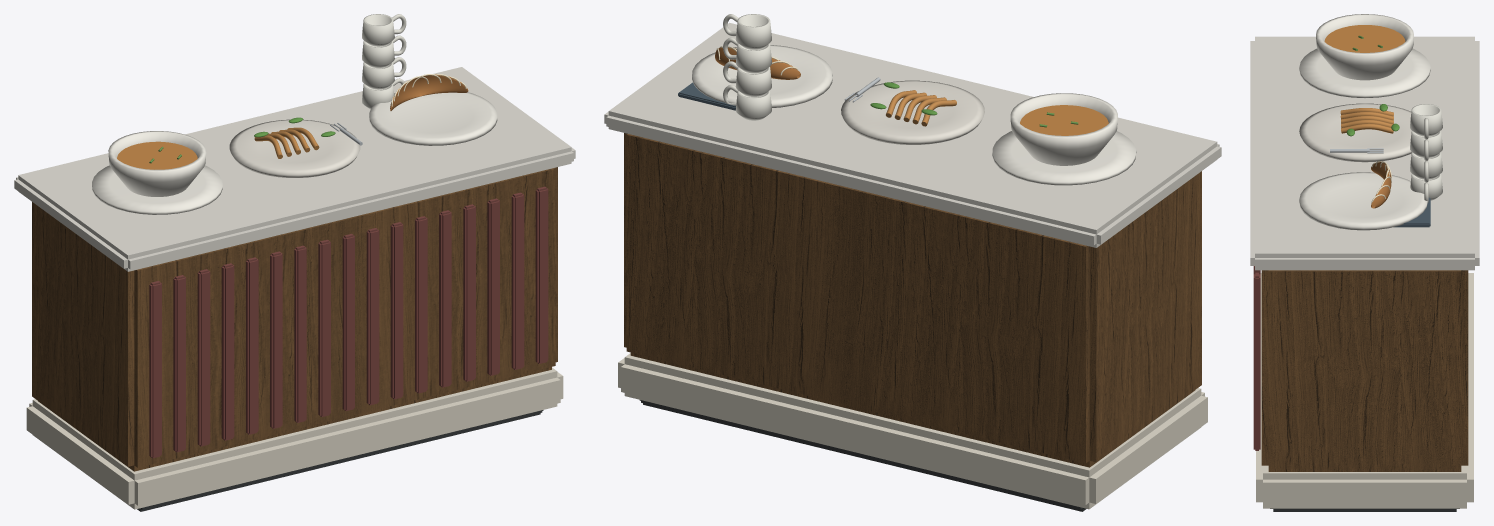
File: collection_v29_restaurant_1.glb
The picture shows the model from 3 angles, left to right: view 1: azimuth 30°, elevation 25°; view 2: azimuth 150°, elevation 25°; view 3: azimuth 270°, elevation 25°; orthographic projection. The views are drawn at different scales.
Visible parts, largest first — view 1: collection_v29_restaurant_1_CC0_Oak_veneer, collection_v29_restaurant_1_V29_oxblood_lacquer, collection_v29_restaurant_1_Honed_solid_surface, collection_v29_restaurant_1_V29_ivory_lacquer, collection_v29_restaurant_1_V24_service_porcelain.002, collection_v29_restaurant_1_V24_service_porcelain.003, collection_v29_restaurant_1_FY21_chalk_lacquer.007, collection_v29_restaurant_1_Anodised_graphite, collection_v29_restaurant_1_V24_roasted_soup.001, collection_v29_restaurant_1_V24_golden_crust.005, collection_v29_restaurant_1_Glazed_ceramic_0.022, collection_v29_restaurant_1_Laminated_pastry.014 (+2 smaller); view 2: collection_v29_restaurant_1_CC0_Oak_veneer, collection_v29_restaurant_1_Honed_solid_surface, collection_v29_restaurant_1_V29_ivory_lacquer, collection_v29_restaurant_1_V24_service_porcelain.002, collection_v29_restaurant_1_FY21_chalk_lacquer.007, collection_v29_restaurant_1_V24_service_porcelain.003, collection_v29_restaurant_1_Anodised_graphite, collection_v29_restaurant_1_V24_roasted_soup.001, collection_v29_restaurant_1_Glazed_ceramic_0.022, collection_v29_restaurant_1_Laminated_pastry.014, collection_v29_restaurant_1_Glazed_ceramic_0.021, collection_v29_restaurant_1_Glazed_ceramic_0.020 (+2 smaller); view 3: collection_v29_restaurant_1_CC0_Oak_veneer, collection_v29_restaurant_1_Honed_solid_surface, collection_v29_restaurant_1_V29_ivory_lacquer, collection_v29_restaurant_1_V24_service_porcelain.002, collection_v29_restaurant_1_V24_service_porcelain.003, collection_v29_restaurant_1_FY21_chalk_lacquer.007, collection_v29_restaurant_1_V24_roasted_soup.001, collection_v29_restaurant_1_V29_oxblood_lacquer, collection_v29_restaurant_1_Laminated_pastry.014, collection_v29_restaurant_1_Glazed_ceramic_0.022, collection_v29_restaurant_1_Anodised_graphite, collection_v29_restaurant_1_Glazed_ceramic_0.021 (+4 smaller).
Boxes of the visible parts, x1=… form: collection_v29_restaurant_1_CC0_Oak_veneer: x1=32, y1=167, x2=557, y2=471; collection_v29_restaurant_1_V29_oxblood_lacquer: x1=149, y1=186, x2=548, y2=458; collection_v29_restaurant_1_Honed_solid_surface: x1=14, y1=67, x2=575, y2=271; collection_v29_restaurant_1_V29_ivory_lacquer: x1=26, y1=367, x2=563, y2=509; collection_v29_restaurant_1_V24_service_porcelain.002: x1=92, y1=131, x2=222, y2=214; collection_v29_restaurant_1_V24_service_porcelain.003: x1=369, y1=92, x2=497, y2=145; collection_v29_restaurant_1_FY21_chalk_lacquer.007: x1=229, y1=119, x2=360, y2=177; collection_v29_restaurant_1_Anodised_graphite: x1=137, y1=410, x2=543, y2=511; collection_v29_restaurant_1_V24_roasted_soup.001: x1=117, y1=141, x2=197, y2=169; collection_v29_restaurant_1_V24_golden_crust.005: x1=390, y1=74, x2=468, y2=110; collection_v29_restaurant_1_Glazed_ceramic_0.022: x1=362, y1=14, x2=406, y2=46; collection_v29_restaurant_1_Laminated_pastry.014: x1=254, y1=127, x2=319, y2=158; collection_v29_restaurant_1_CC0_Oak_veneer: x1=624, y1=133, x2=1201, y2=467; collection_v29_restaurant_1_Honed_solid_surface: x1=604, y1=22, x2=1221, y2=247; collection_v29_restaurant_1_V29_ivory_lacquer: x1=618, y1=353, x2=1207, y2=509; collection_v29_restaurant_1_V24_service_porcelain.002: x1=992, y1=93, x2=1136, y2=185; collection_v29_restaurant_1_FY21_chalk_lacquer.007: x1=841, y1=80, x2=984, y2=144; collection_v29_restaurant_1_V24_service_porcelain.003: x1=692, y1=45, x2=832, y2=107; collection_v29_restaurant_1_Anodised_graphite: x1=639, y1=400, x2=1086, y2=511; collection_v29_restaurant_1_V24_roasted_soup.001: x1=1020, y1=105, x2=1108, y2=135; collection_v29_restaurant_1_Glazed_ceramic_0.022: x1=723, y1=14, x2=771, y2=49; collection_v29_restaurant_1_Laminated_pastry.014: x1=886, y1=90, x2=956, y2=126; collection_v29_restaurant_1_Glazed_ceramic_0.021: x1=723, y1=37, x2=771, y2=73; collection_v29_restaurant_1_Glazed_ceramic_0.020: x1=723, y1=61, x2=771, y2=96; collection_v29_restaurant_1_CC0_Oak_veneer: x1=1261, y1=270, x2=1468, y2=471; collection_v29_restaurant_1_Honed_solid_surface: x1=1250, y1=36, x2=1479, y2=270; collection_v29_restaurant_1_V29_ivory_lacquer: x1=1256, y1=273, x2=1473, y2=508; collection_v29_restaurant_1_V24_service_porcelain.002: x1=1299, y1=14, x2=1430, y2=97; collection_v29_restaurant_1_V24_service_porcelain.003: x1=1299, y1=172, x2=1427, y2=230; collection_v29_restaurant_1_FY21_chalk_lacquer.007: x1=1299, y1=103, x2=1411, y2=162; collection_v29_restaurant_1_V24_roasted_soup.001: x1=1324, y1=25, x2=1405, y2=52; collection_v29_restaurant_1_V29_oxblood_lacquer: x1=1253, y1=266, x2=1260, y2=450; collection_v29_restaurant_1_Laminated_pastry.014: x1=1340, y1=108, x2=1393, y2=133; collection_v29_restaurant_1_Glazed_ceramic_0.022: x1=1410, y1=104, x2=1442, y2=139; collection_v29_restaurant_1_Anodised_graphite: x1=1270, y1=508, x2=1459, y2=511; collection_v29_restaurant_1_Glazed_ceramic_0.021: x1=1410, y1=130, x2=1442, y2=160.
Bounding box in the file's own units: 1.87 × 1.43 × 0.82.
Materials: 20 (1 with a texture image).
